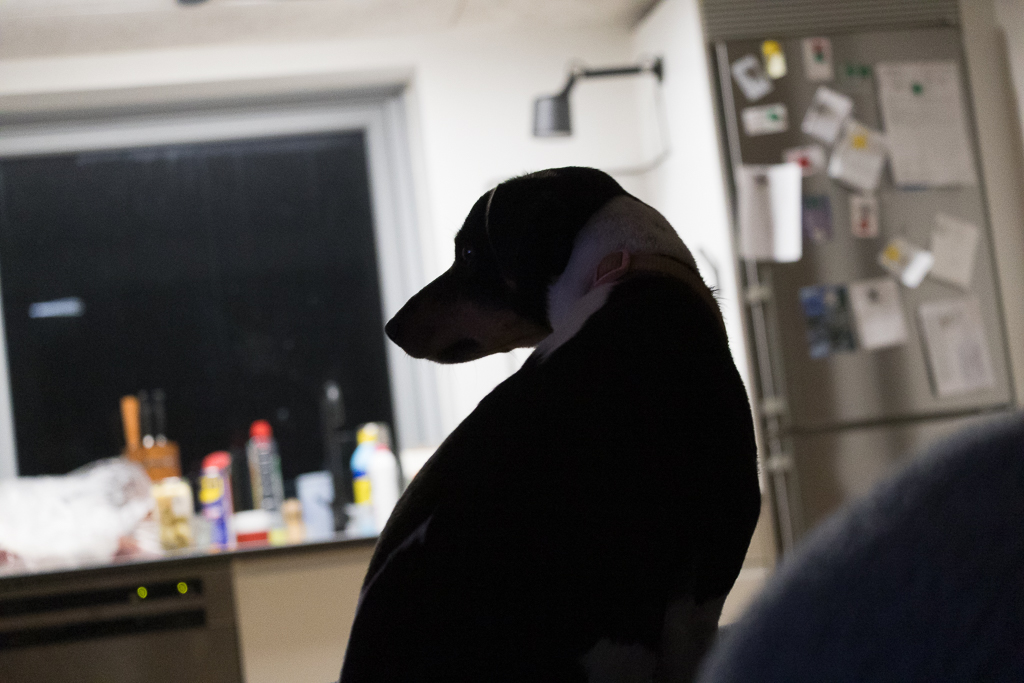Dog: (319, 152, 771, 683)
